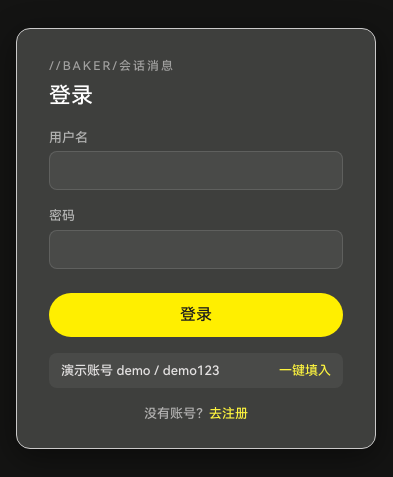
Test: LoginPage › 密码错误时显示"用户名或密码错误"并停留
In the field labelled "用户名": (196, 170) 49,151 -> 343,190, type "demo"
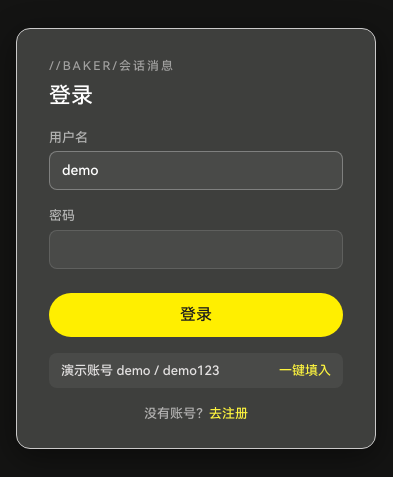
In the password field labelled "密码": (196, 249) 49,230 -> 343,268, type "wrong1"
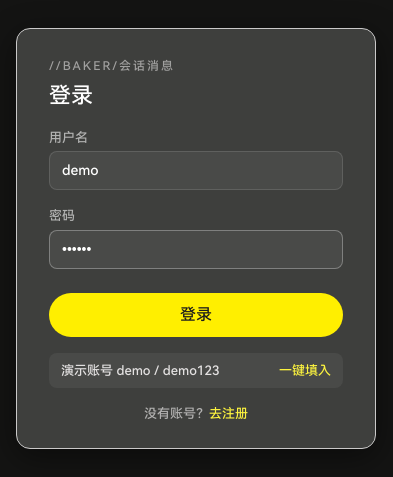
Click the button "登录": click(196, 314) 49,292 -> 343,336
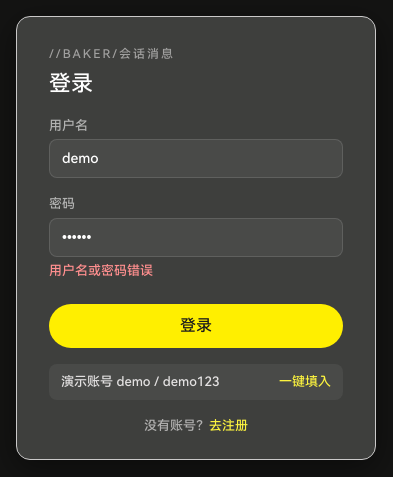
Expected: the text "用户名或密码错误" is shown, 49,263 -> 153,278
